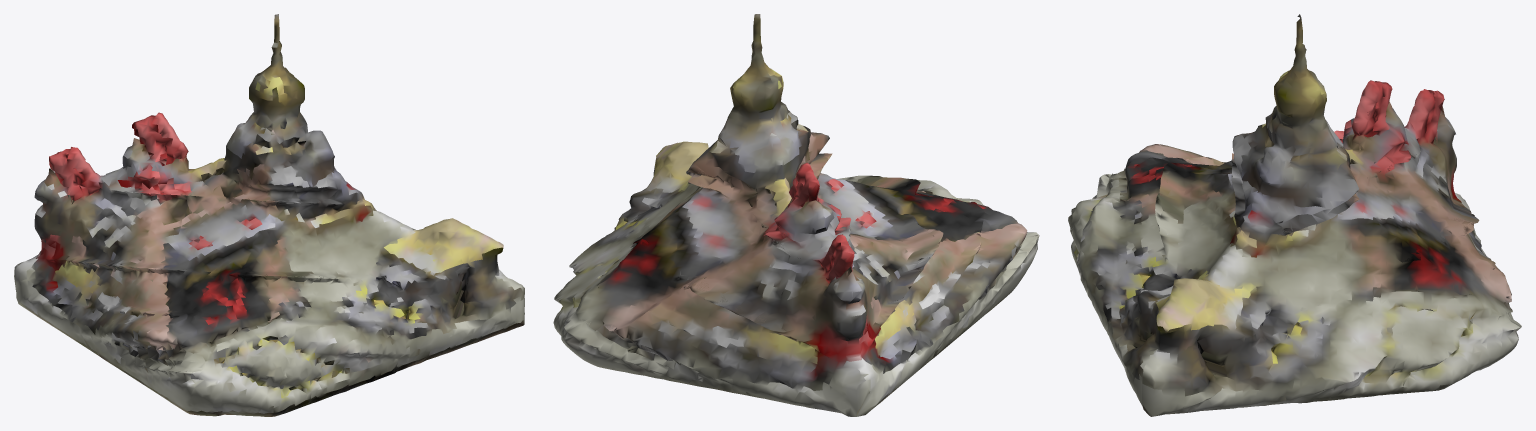
File: soviet_conyard.glb
The picture shows the model from 3 angles, left to right: view 1: azimuth 30°, elevation 25°; view 2: azimuth 150°, elevation 25°; view 3: azimuth 270°, elevation 25°; orthographic projection. The views are drawn at different scales.
Parts seen in each view (by area): view 1: soviet_conyard; view 2: soviet_conyard; view 3: soviet_conyard.
Boxes of the visible parts, box(x1,y1,x2,y2) form: soviet_conyard: box(14, 14, 524, 416); soviet_conyard: box(553, 14, 1039, 416); soviet_conyard: box(1068, 14, 1521, 416).
Size of what is drawn, in the model's own units: 1.89 by 1.43 by 1.88.
